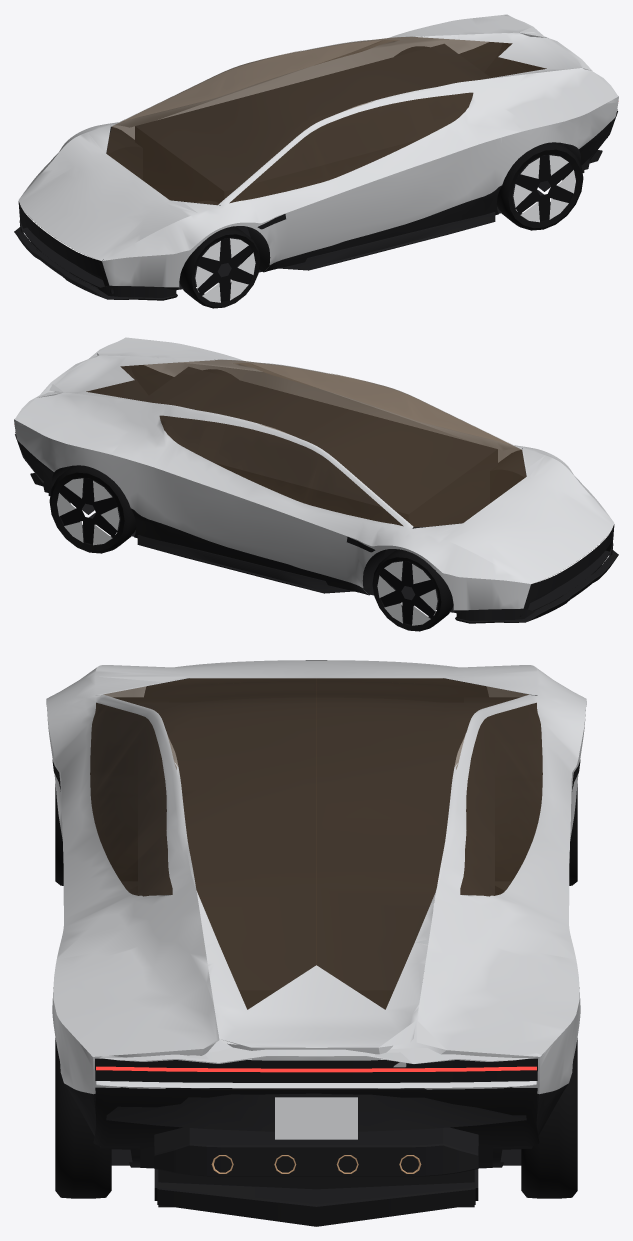
File: car_lod2.raw.glb
3 renders of one model, top to bottom at view 1: azimuth 30°, elevation 25°; view 2: azimuth 150°, elevation 25°; view 3: azimuth 270°, elevation 25°, orthographic. The views are drawn at different scales.
Visible parts, largest first — view 1: Body, Wheels; view 2: Body, Wheels; view 3: Body, Wheels.
Part boxes in pixels (x1,y1,x2,y2): Body: (14,14,618,300); Wheels: (179,142,583,308); Body: (14,337,618,623); Wheels: (49,465,453,631); Body: (46,660,586,1226); Wheels: (55,784,577,1198).
Bounding box in the file's own units: 5.12 × 1.34 × 2.27.
